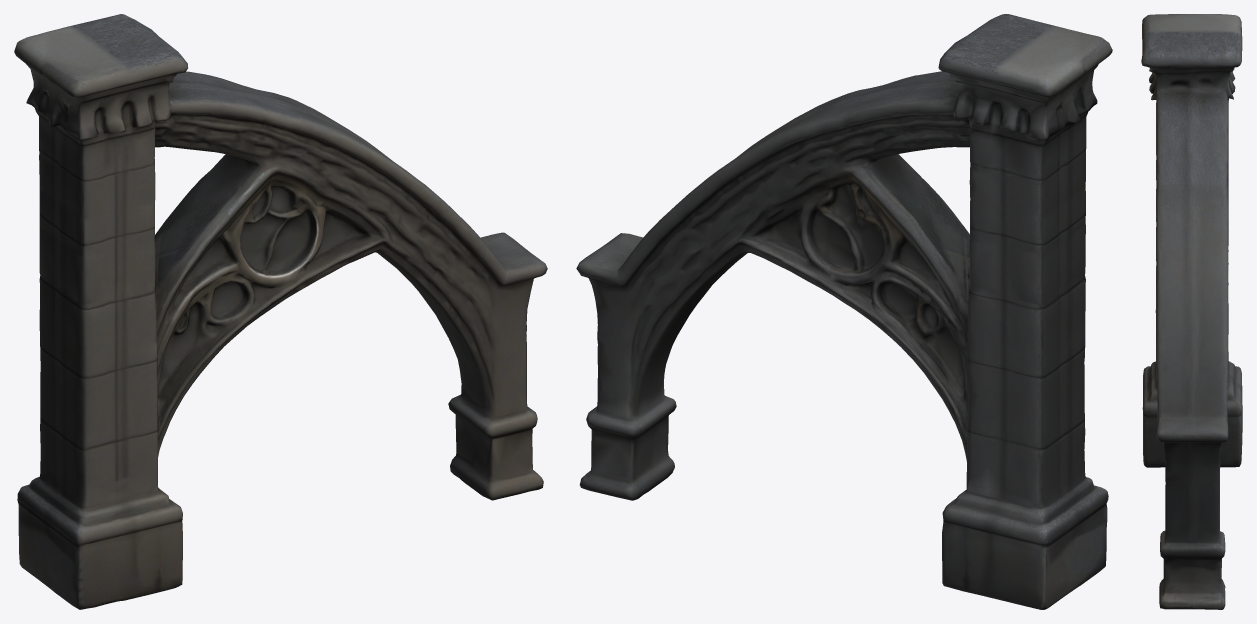
File: buttress.glb
3 views of the same model, side by side, from view 1: azimuth 30°, elevation 25°; view 2: azimuth 150°, elevation 25°; view 3: azimuth 270°, elevation 25° (orthographic). The views are drawn at different scales.
Size of the model in its own units: 1.92 by 2 by 0.4412.
1 material, 1 textured.
